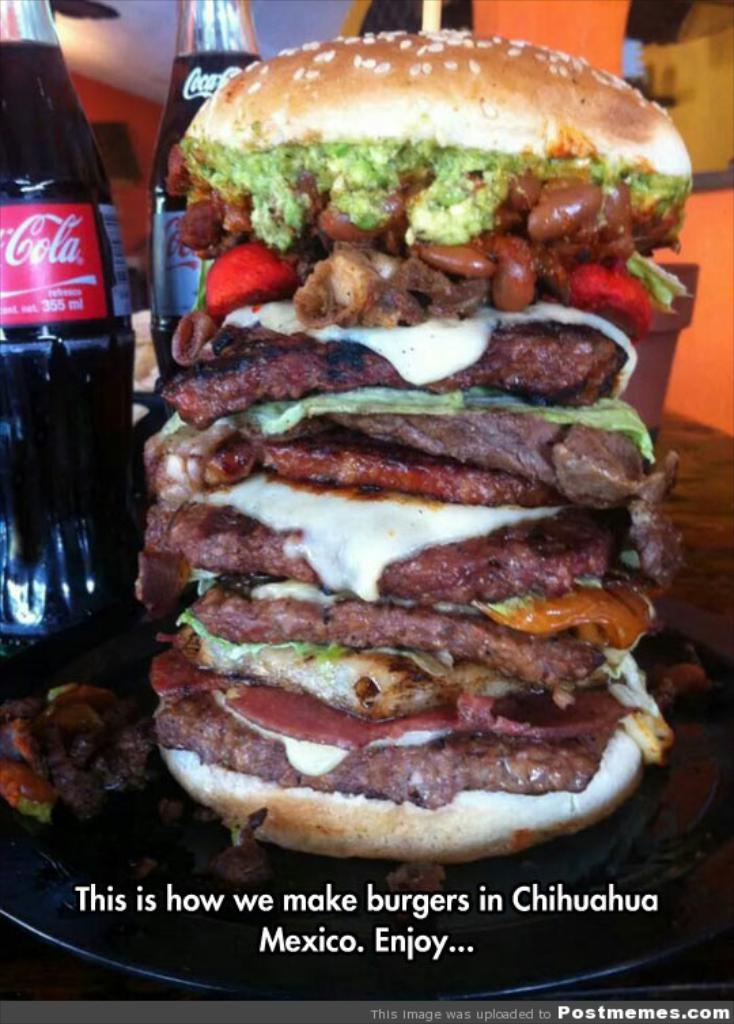Hamburger: (141, 29, 693, 856)
